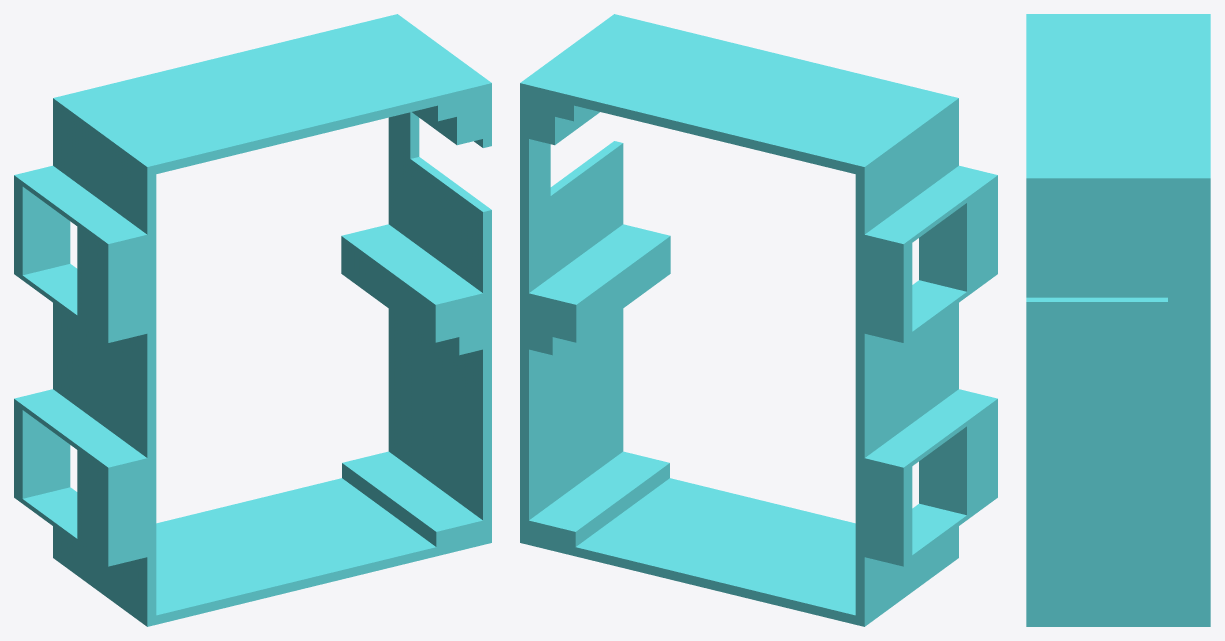
File: Robotics_room.dae
3 views of the same model, side by side, from view 1: azimuth 30°, elevation 25°; view 2: azimuth 150°, elevation 25°; view 3: azimuth 270°, elevation 25° (orthographic). The views are drawn at different scales.
Visible parts, largest first — view 1: node0; view 2: node0; view 3: node0.
Part boxes in pixels (x1,y1,x2,y2): node0: (14, 14, 491, 626); node0: (520, 14, 997, 626); node0: (1026, 14, 1210, 626).
Bounding box in the file's own units: 6.47 × 2.75 × 7.41.
